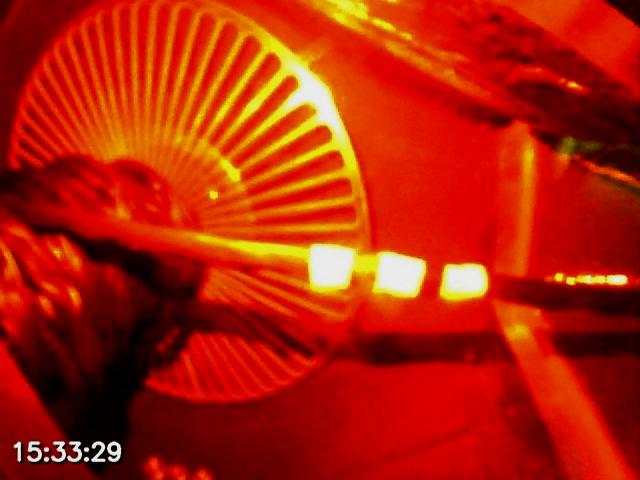white-dots: (308, 243, 488, 302)
